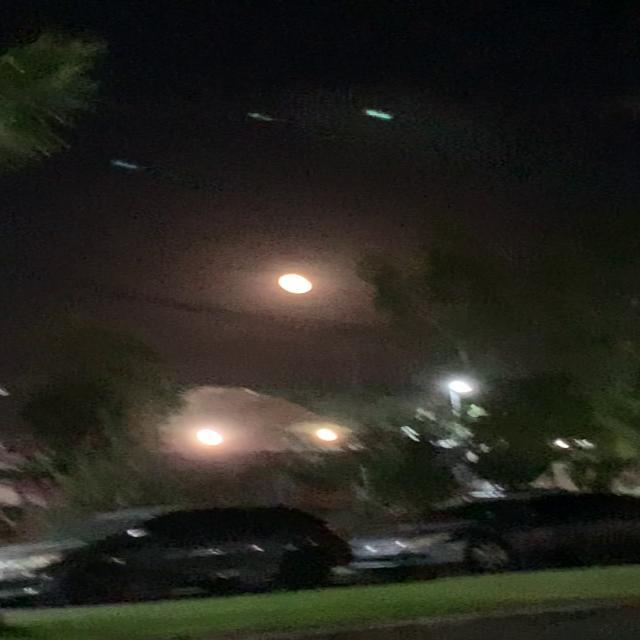moon: (316, 227, 376, 262)
